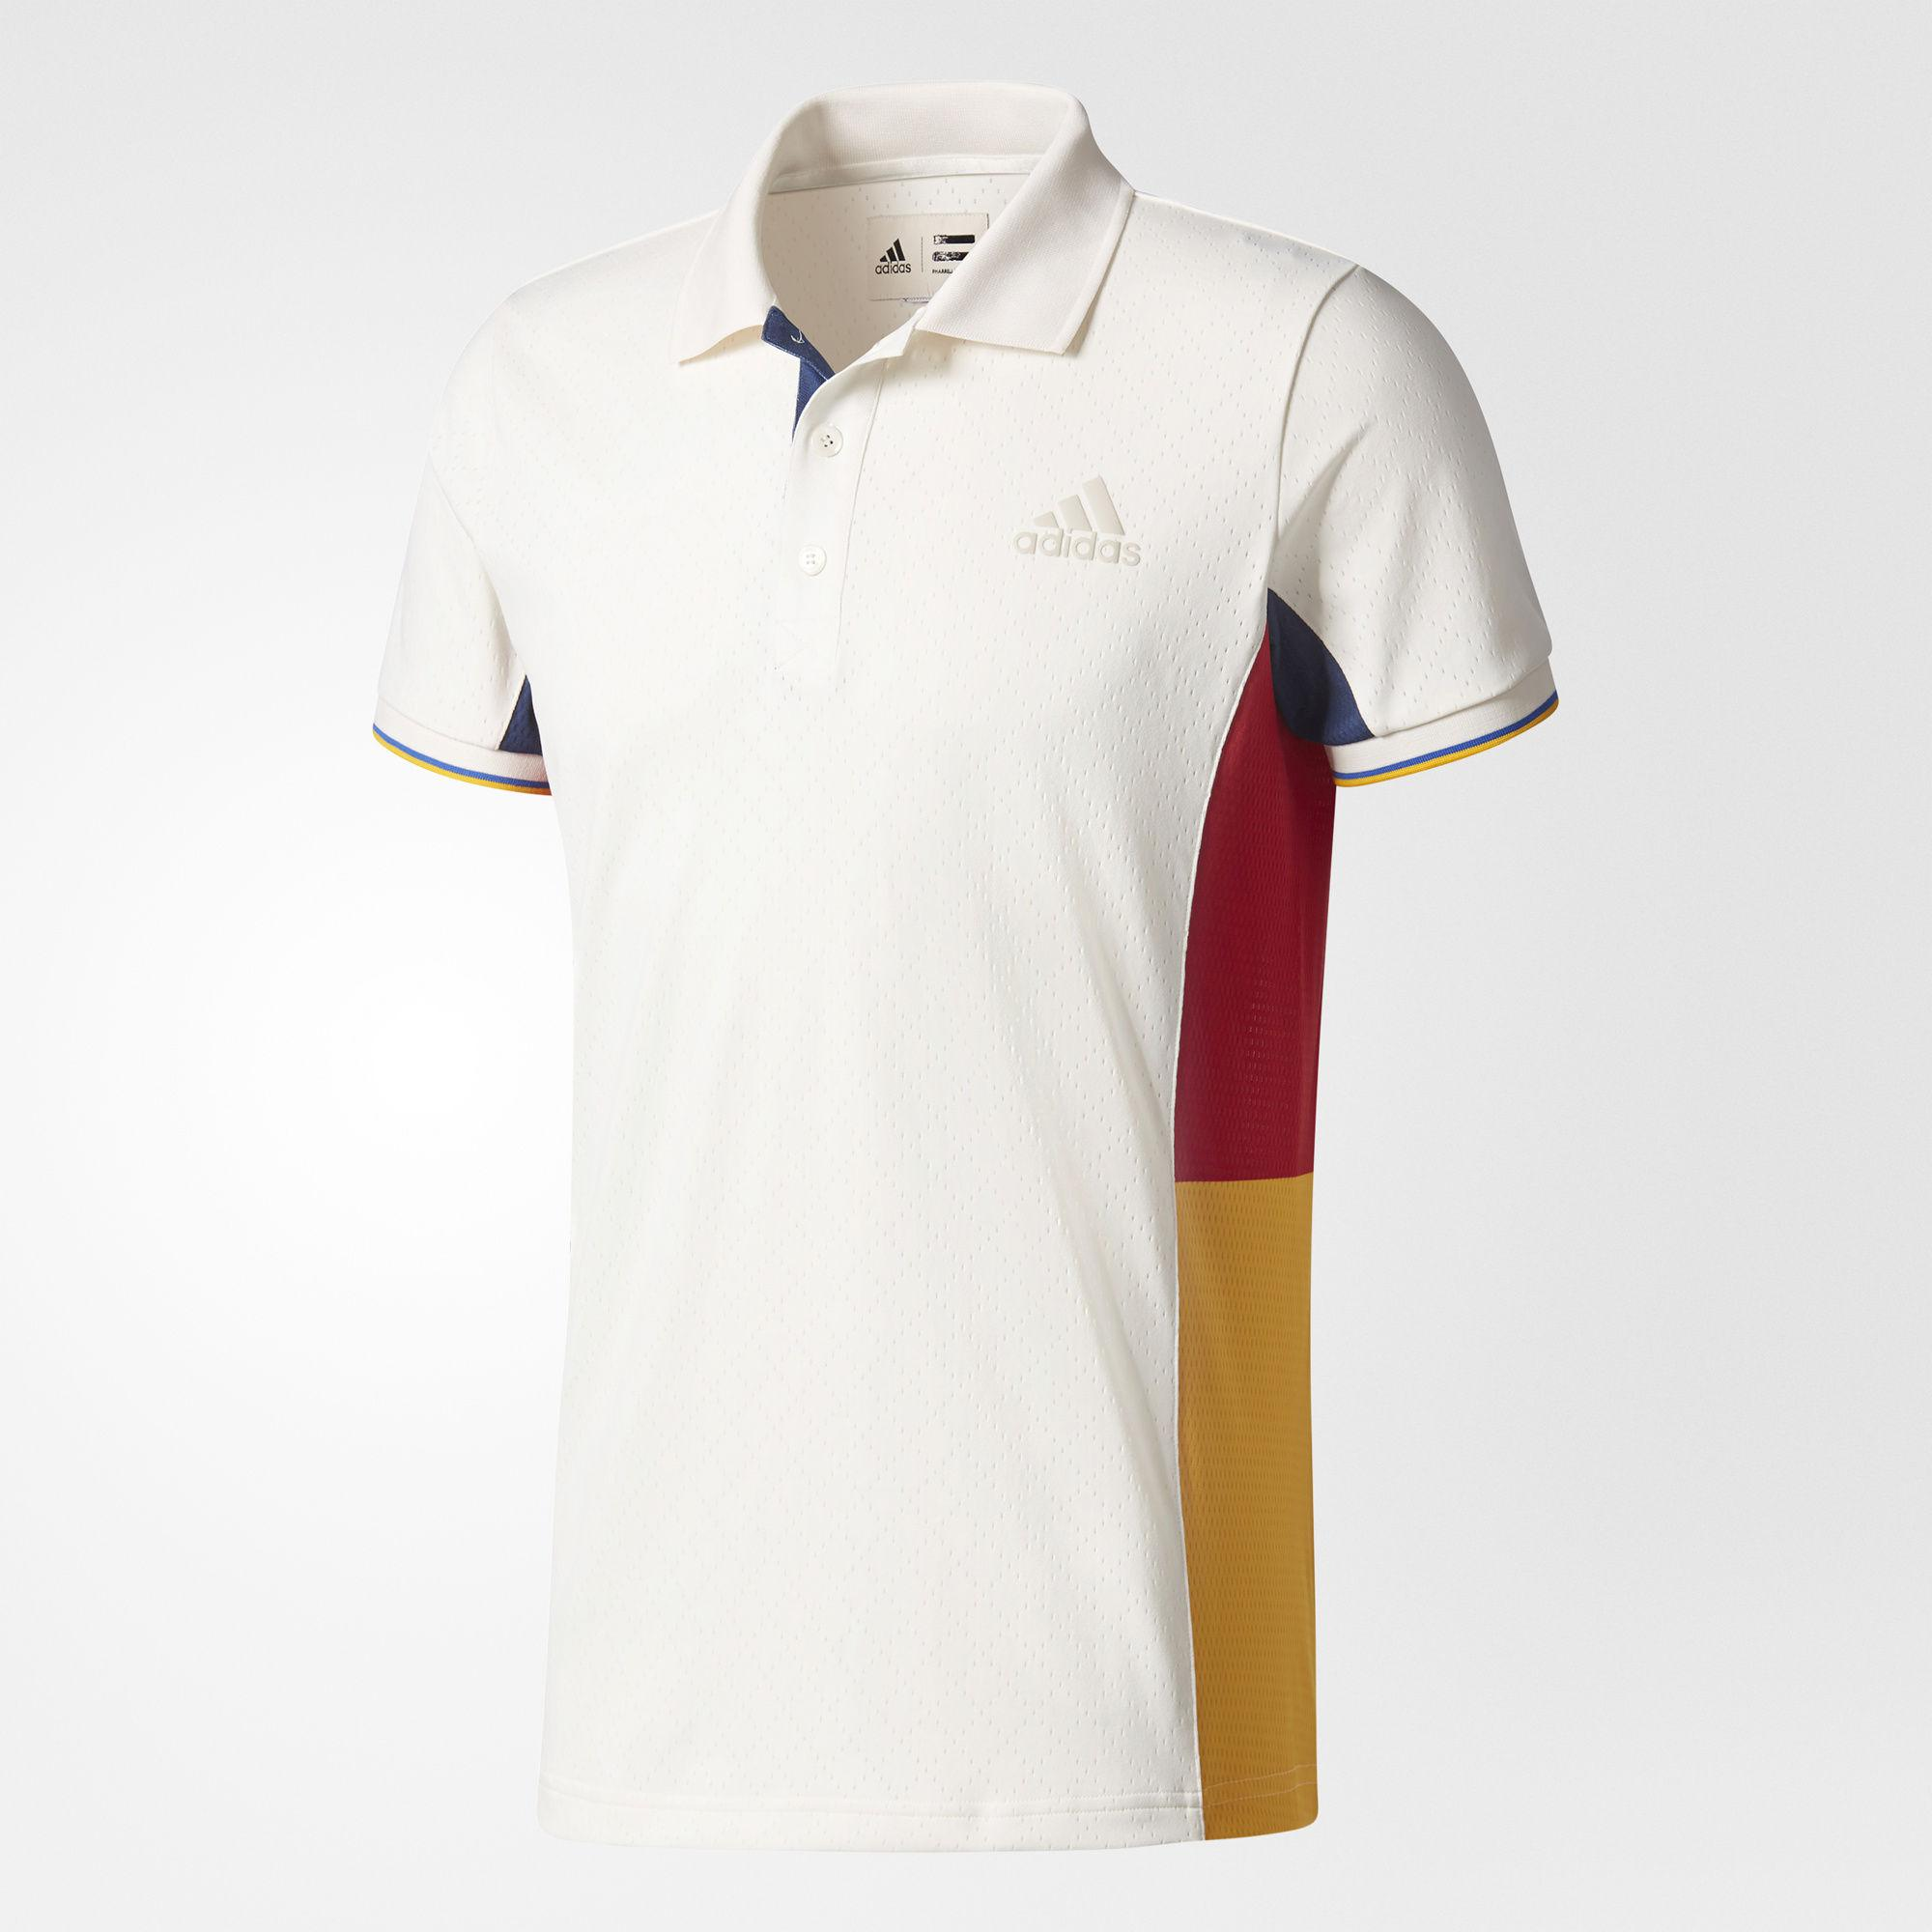teeshirt: (331, 69, 1652, 1875)
